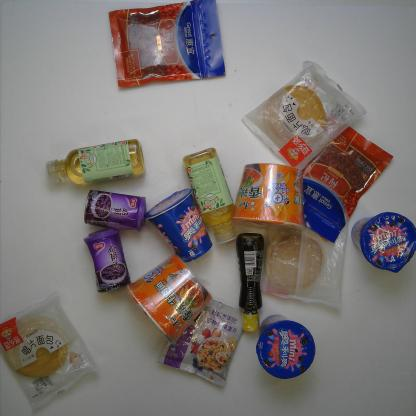Canned Food: (83, 228, 132, 294), (83, 189, 148, 232)
Dessert: (240, 60, 367, 170), (0, 290, 99, 411), (260, 220, 346, 310), (144, 187, 213, 264), (350, 211, 416, 273), (255, 314, 316, 380)
Dried Fruit: (300, 126, 394, 244), (107, 0, 227, 88)
Drink: (182, 147, 238, 244), (44, 138, 146, 186)
Instant Drink: (156, 299, 245, 388)
Instant Noodles: (125, 253, 213, 345), (230, 162, 308, 230)
Seasoner: (233, 232, 267, 333)
